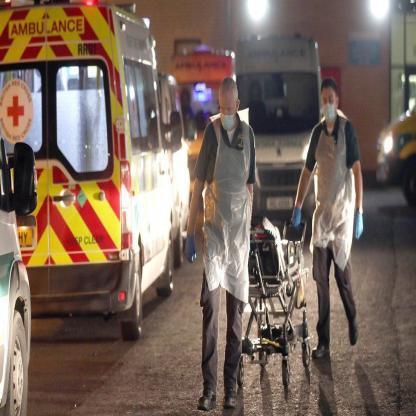Ambulance - v1 Ambulance last generate: (0, 0, 182, 299)
